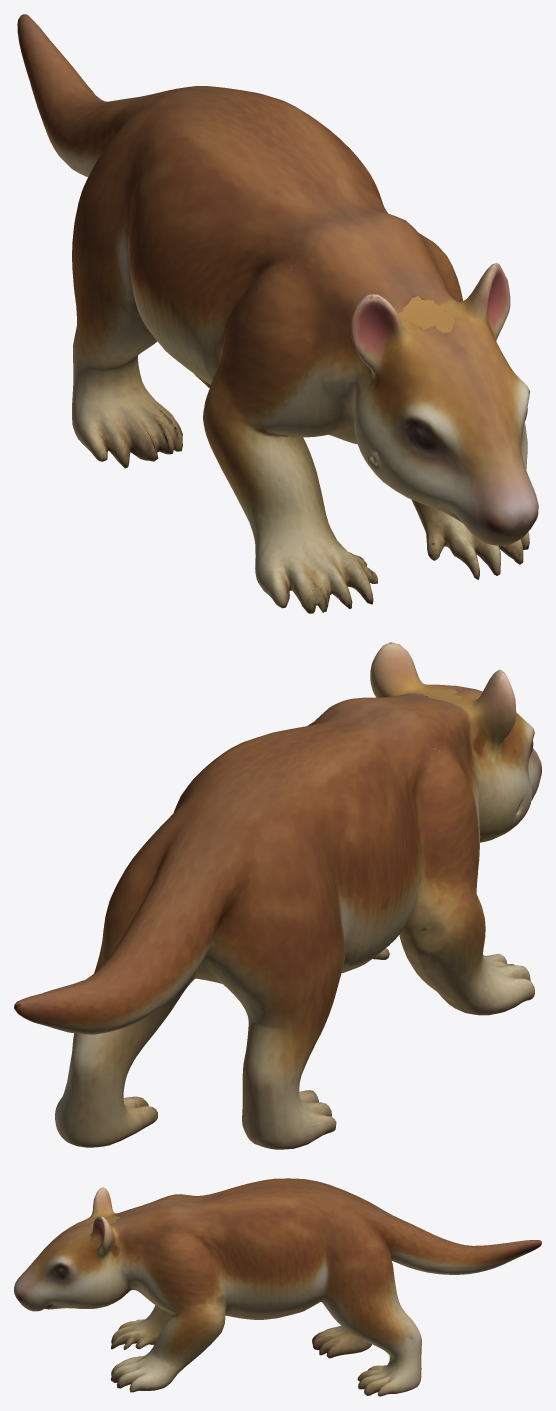
3 views of the same model, one above another, from view 1: azimuth 30°, elevation 25°; view 2: azimuth 150°, elevation 25°; view 3: azimuth 270°, elevation 25° (orthographic). The views are drawn at different scales.
Visible parts, largest first — view 1: world; view 2: world; view 3: world.
Boxes of the visible parts, box(x1,y1,x2,y2) form: world: box(17, 14, 538, 613); world: box(14, 642, 541, 1149); world: box(14, 1178, 541, 1396).
Size of the model in its own units: 0.0697 by 0.0899 by 0.24.
Materials: 1 (1 with a texture image).
